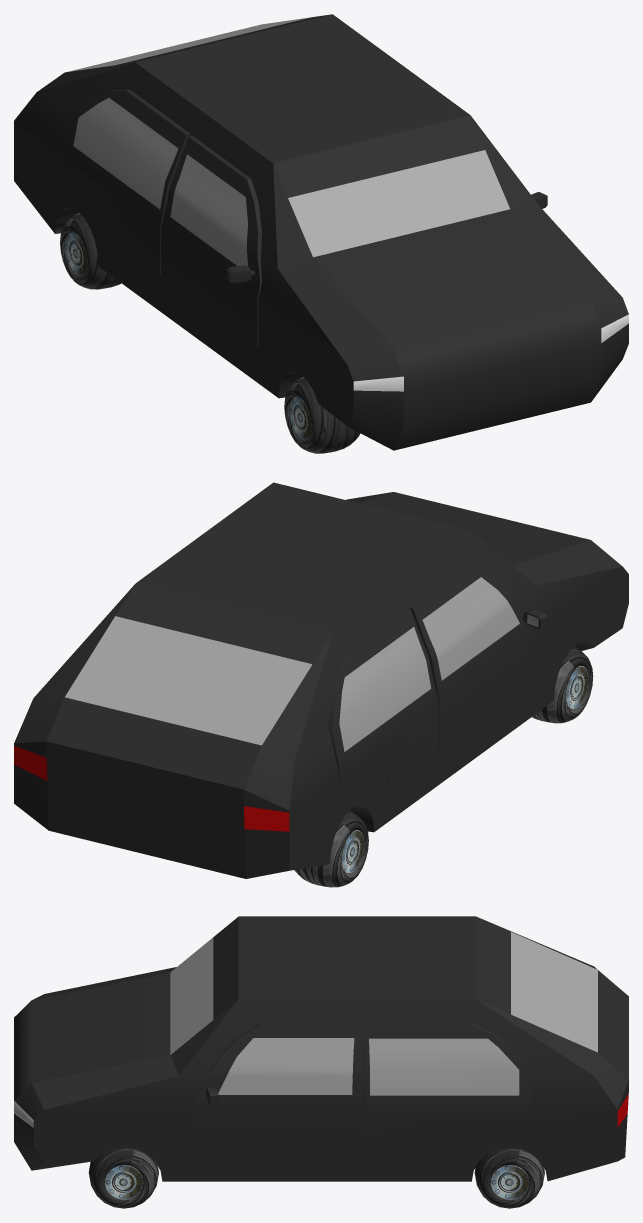
The model's file is MC car.fbx.
3 renders of one model, top to bottom at view 1: azimuth 30°, elevation 25°; view 2: azimuth 150°, elevation 25°; view 3: azimuth 270°, elevation 25°, orthographic. The views are drawn at different scales.
Parts seen in each view (by area): view 1: car, FrontWheelR, BackWheelR; view 2: car, BackWheelR, FrontWheelR; view 3: car, FrontWheelL, BackWheelL.
Boxes of the visible parts, bbox=[...] form: car: bbox=[14, 14, 628, 450]; FrontWheelR: bbox=[284, 377, 360, 453]; BackWheelR: bbox=[60, 213, 121, 289]; car: bbox=[14, 482, 628, 878]; BackWheelR: bbox=[294, 811, 368, 887]; FrontWheelR: bbox=[532, 646, 593, 723]; car: bbox=[14, 916, 628, 1181]; FrontWheelL: bbox=[88, 1147, 158, 1208]; BackWheelL: bbox=[474, 1147, 544, 1208].
Size of the model in its own units: 13.33 by 9.36 by 25.96.
